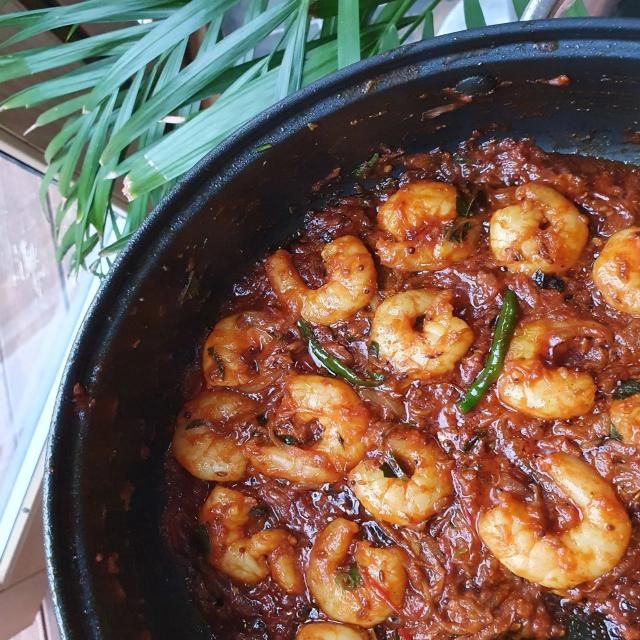prawn thokku: (164, 141, 640, 640)
